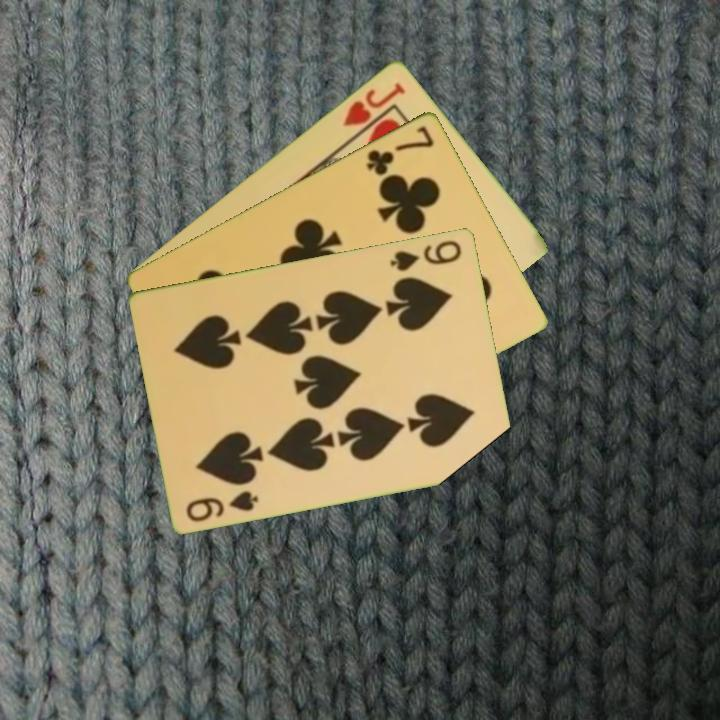7c: (363, 121, 437, 178)
9s: (183, 486, 262, 524), (387, 236, 465, 274)
Jh: (338, 78, 408, 143)
